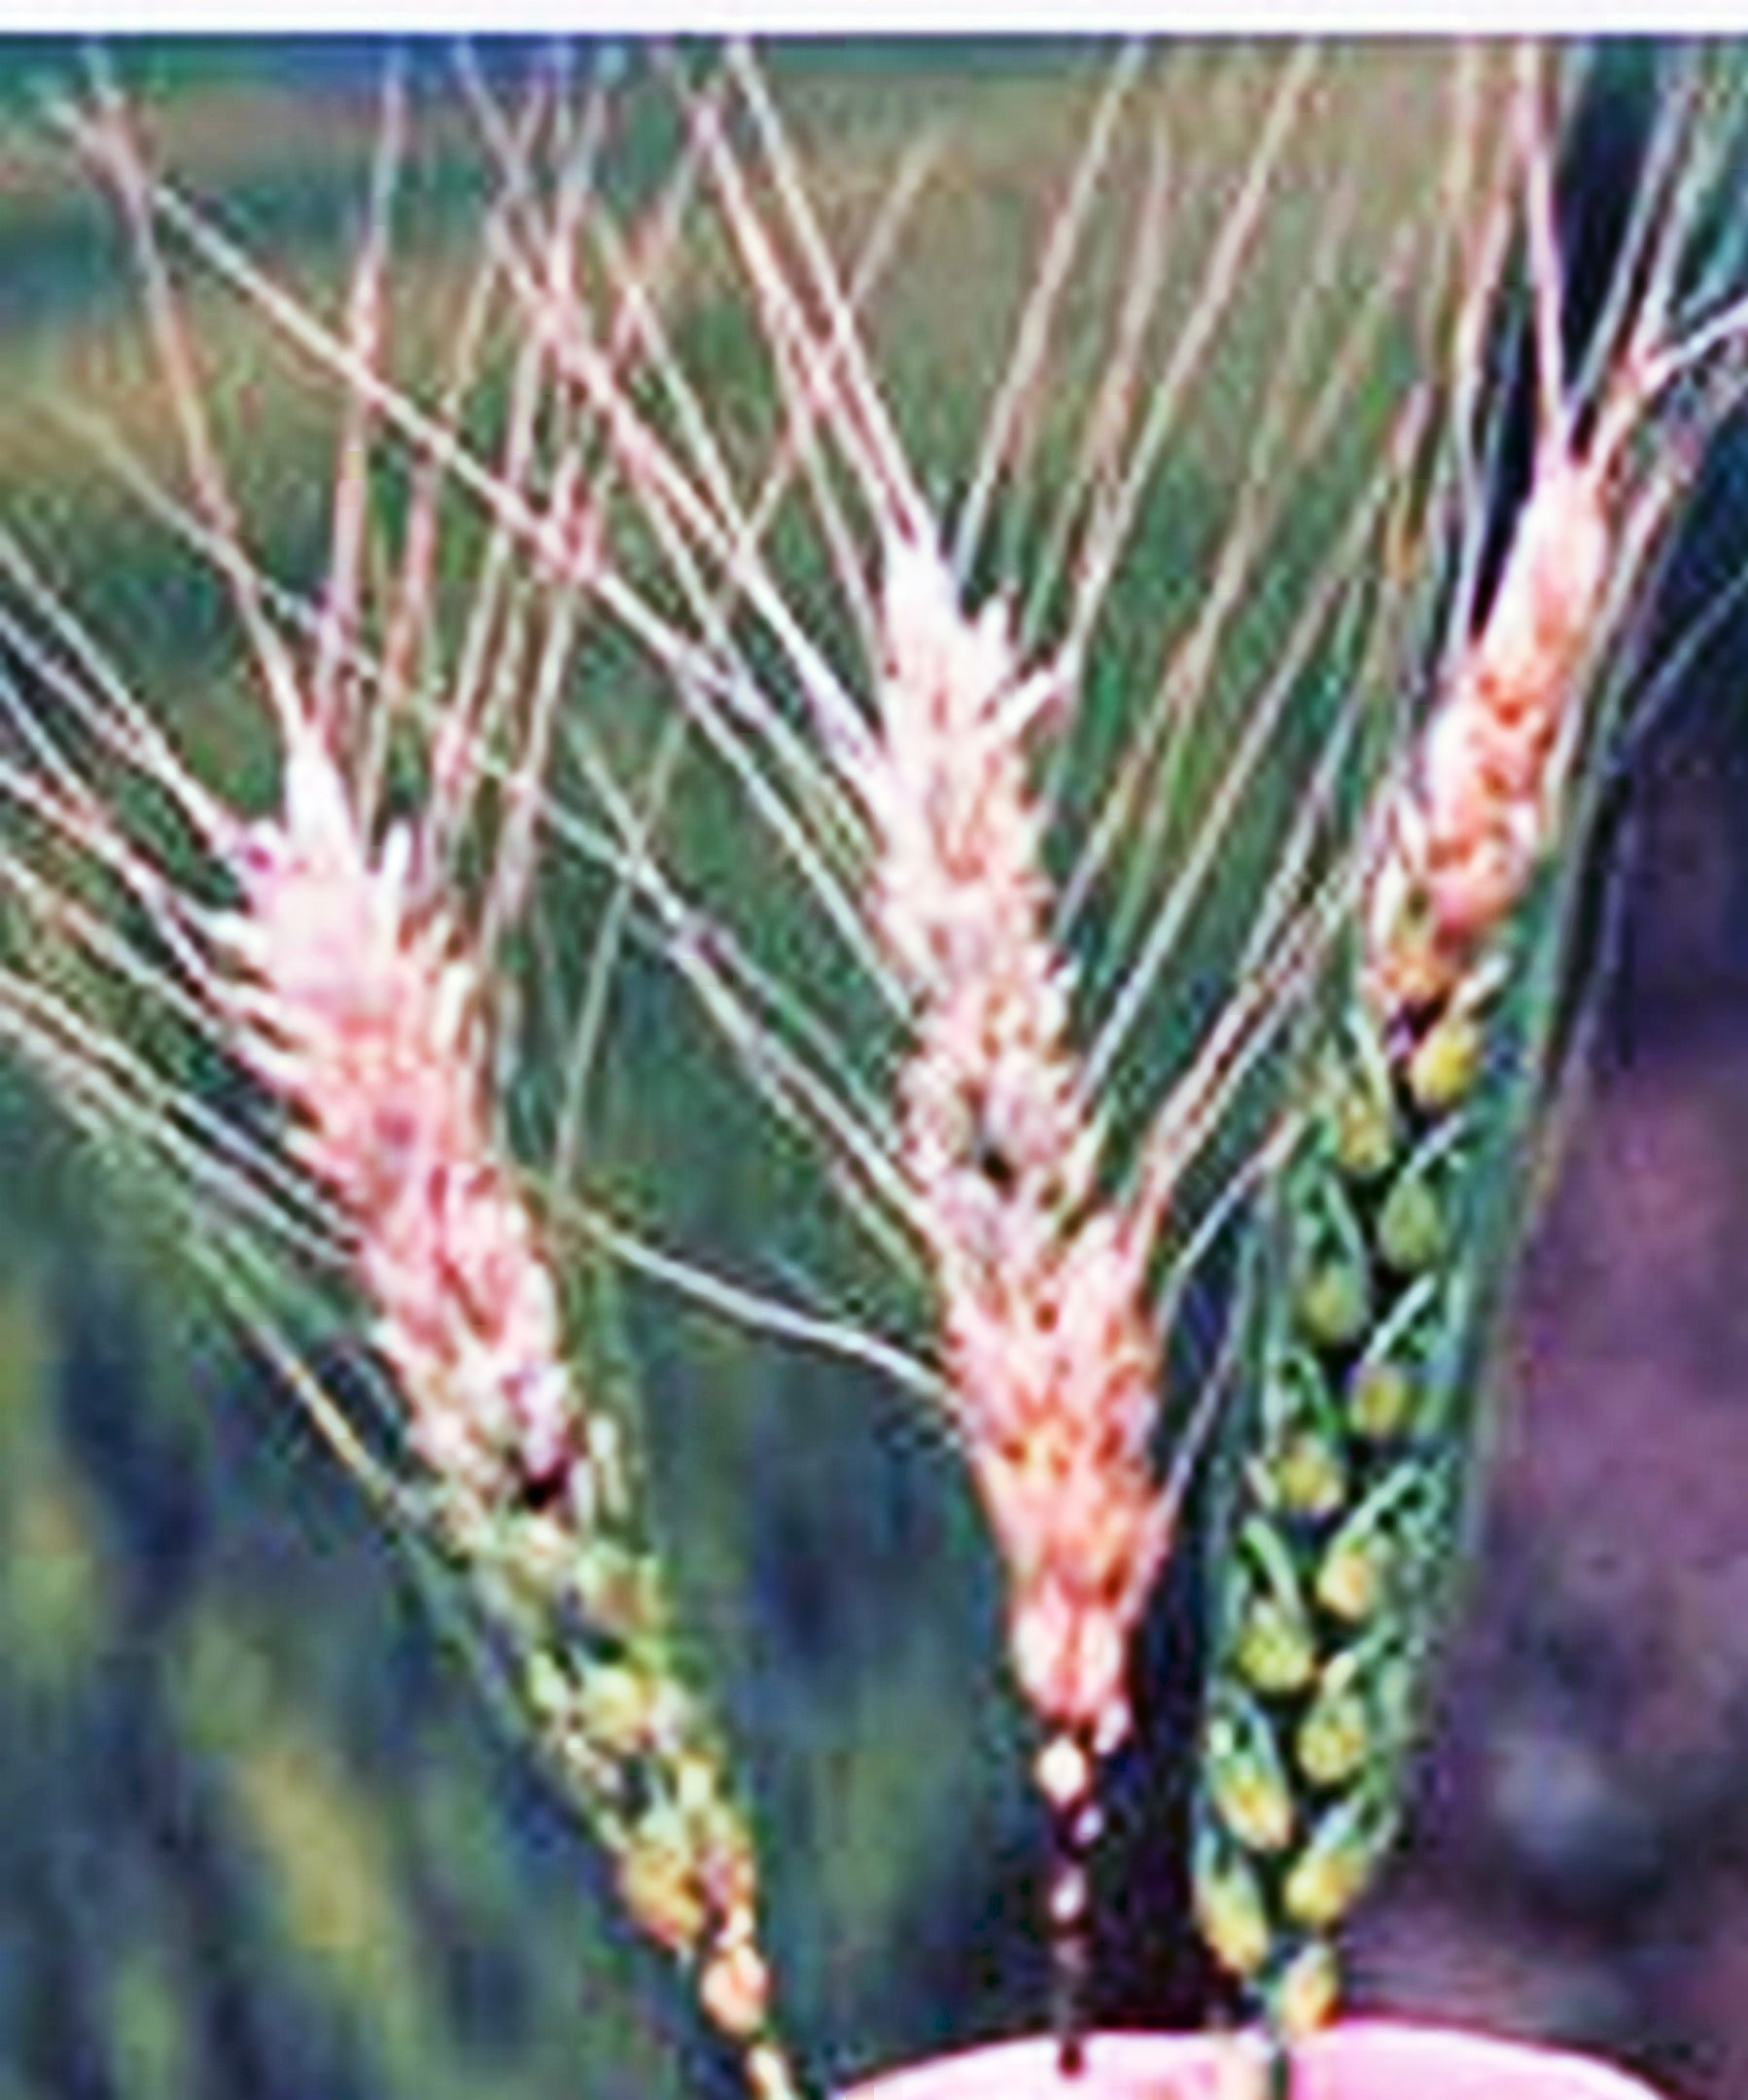Wheat scab: (1209, 448, 1724, 1992)
